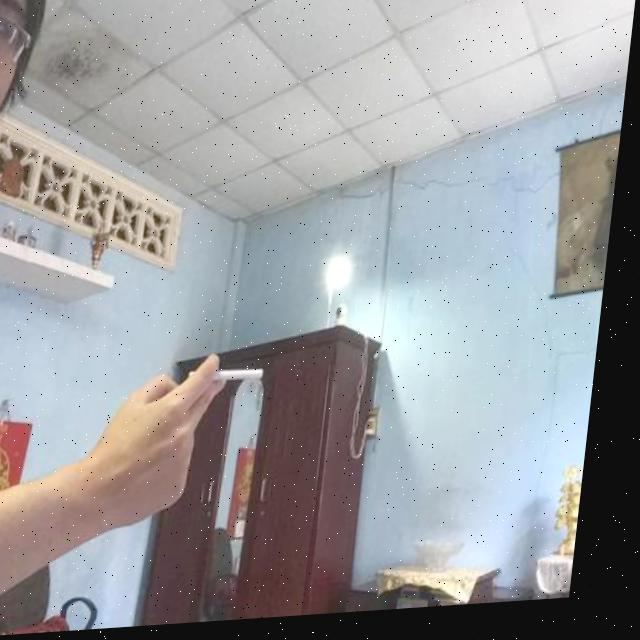cigarette: (197, 370, 275, 387)
